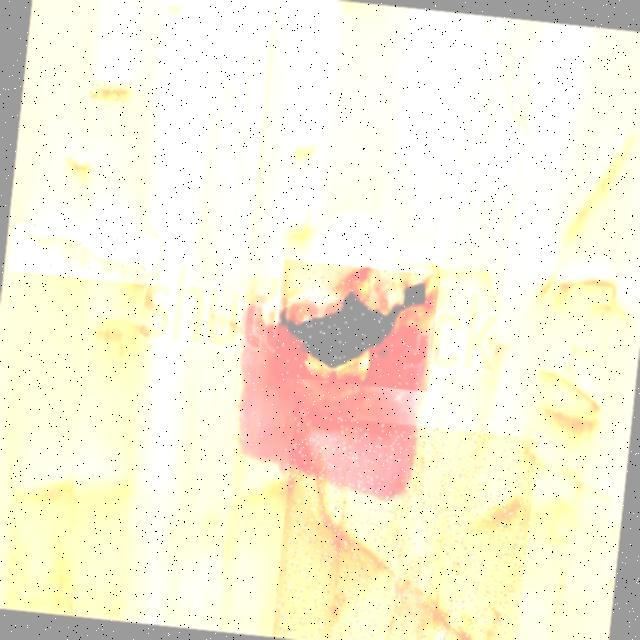Hole: (272, 259, 439, 392)
Minor-Dent: (271, 413, 537, 640)
Rust: (9, 223, 160, 286), (88, 80, 132, 104)
